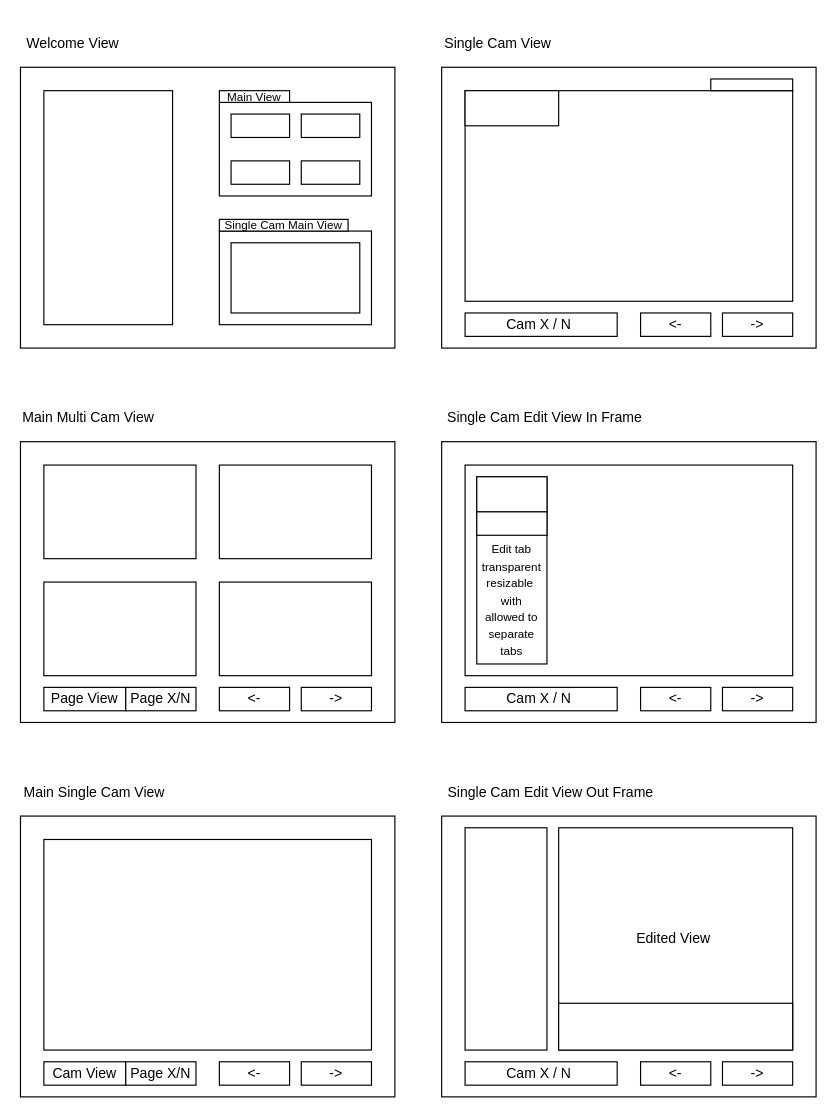
The diagram is 837 pixels wide and 1117 high, and some of its shapes have lost their labels. Each missing label, with the centre of its shape:
Edit Bttn (transparent): point 511,108
in/out frame: point 511,523
Original View (can be extended to 1/2 of available frame size): point 675,1026
Resizable Edit Menu: point 505,938
tabs on/off notify tab: point 511,494
Welcome Text Settings Exit: point 108,207
